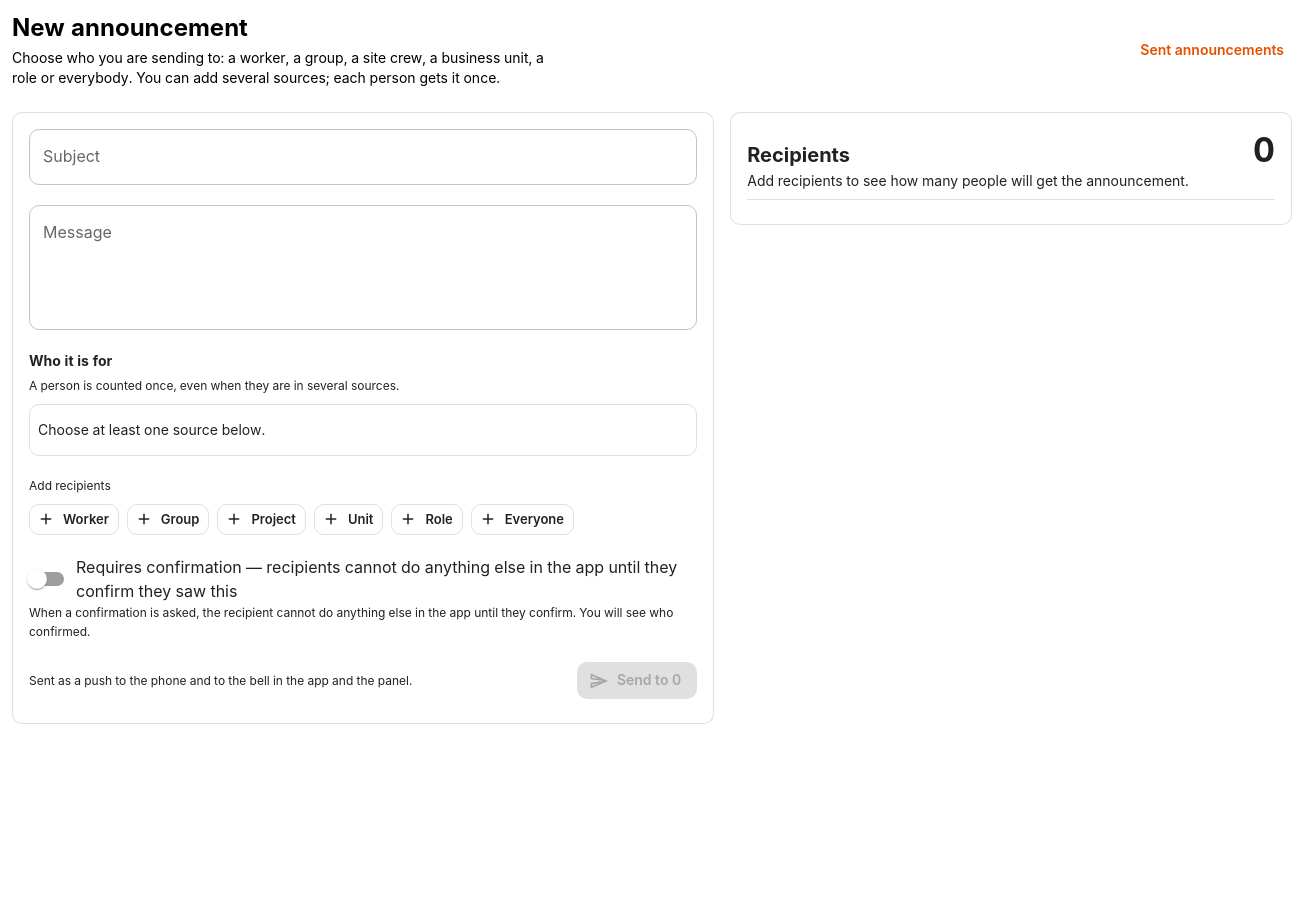
Test: NewAnnouncementPage › lists who a choice names and says who cannot be reached
Click the button "Group".
click(168, 519)  # box [127,504,209,535]
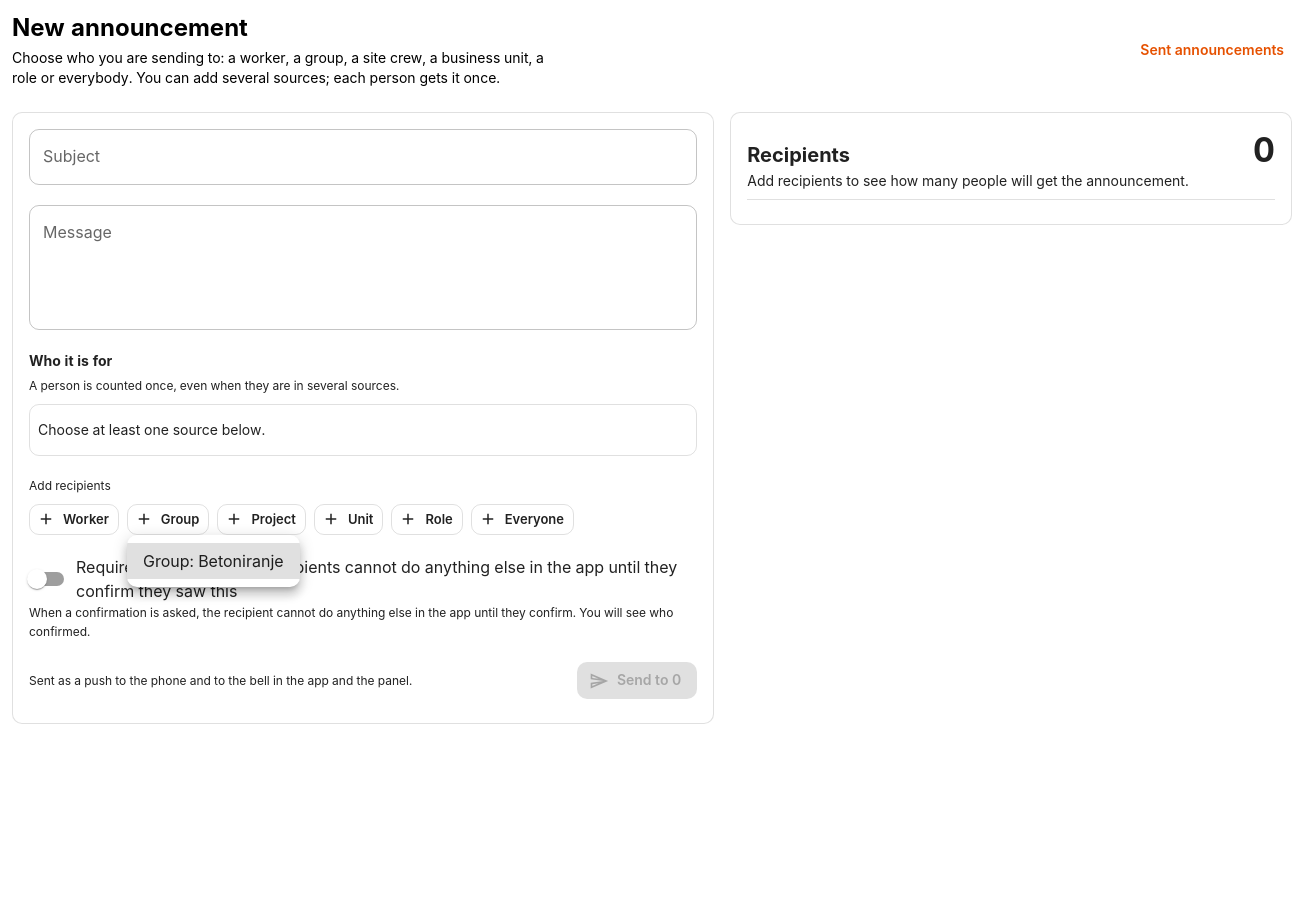
Click the menu item "Group: Betoniranje".
click(213, 561)  # box [127,543,300,579]
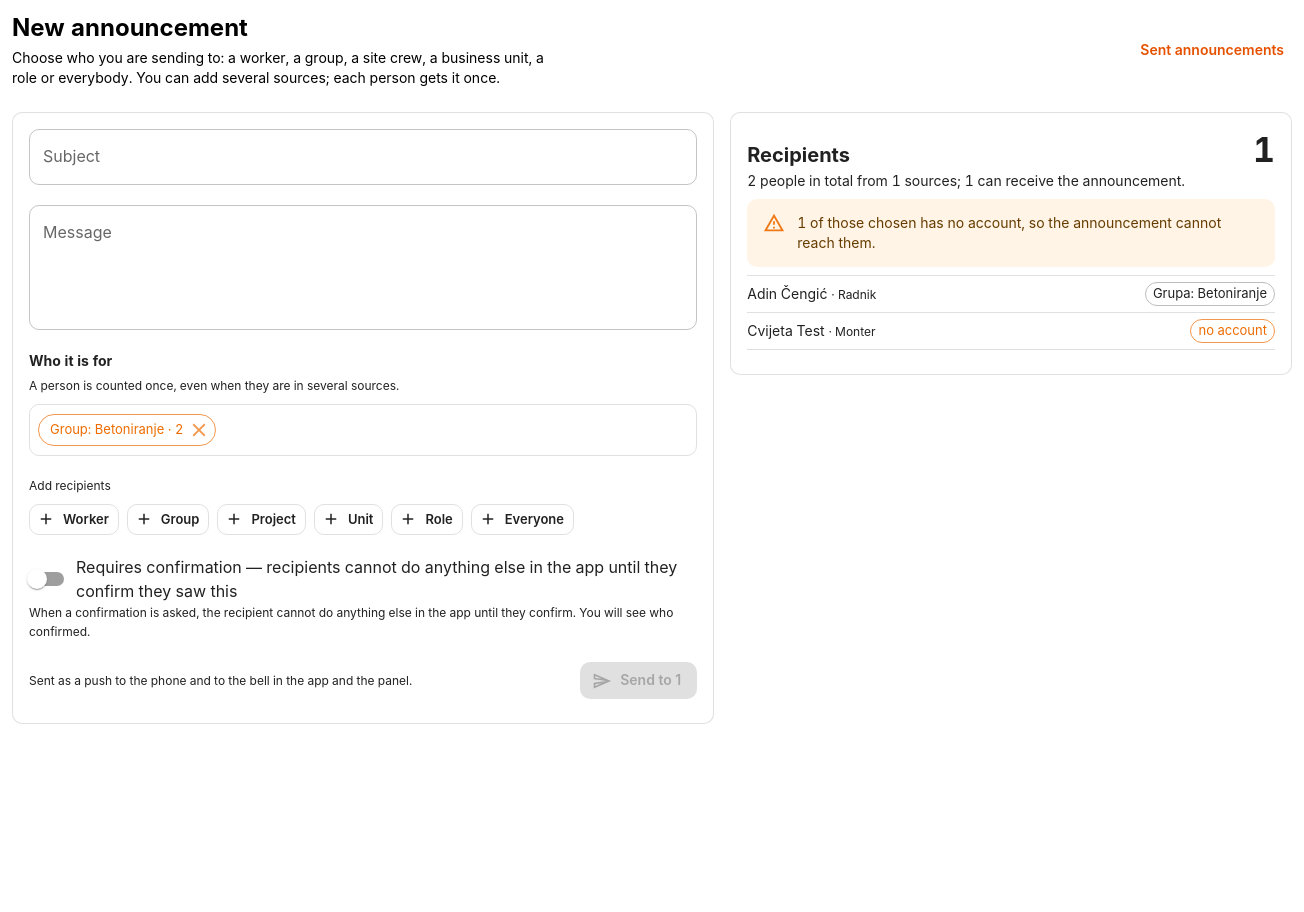
Expected: the text "Adin Čengić" is shown, [747,285,828,302]
Expected: the button "Send to 1" is shown, [580,662,697,699]
